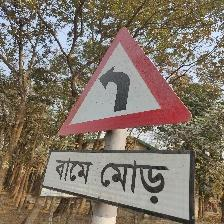Left-Turn: (39, 26, 202, 223)
